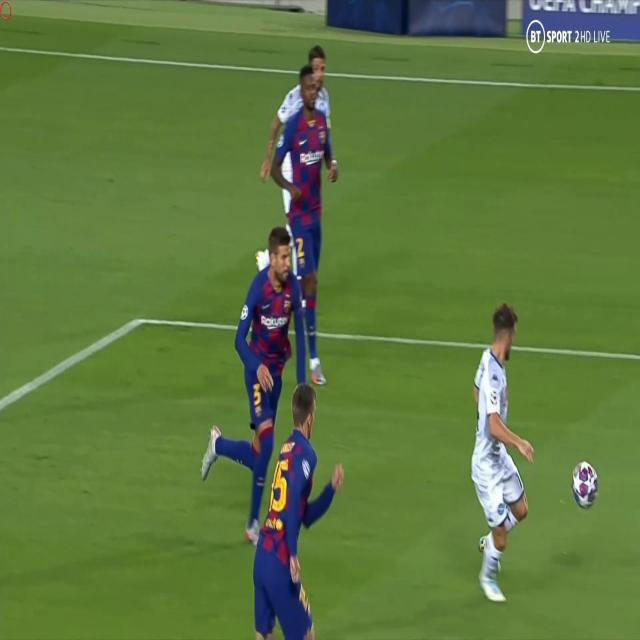ball: (567, 454, 604, 508)
player: (200, 228, 306, 539), (242, 383, 349, 640), (458, 302, 546, 603), (252, 41, 336, 272), (291, 68, 334, 390)
